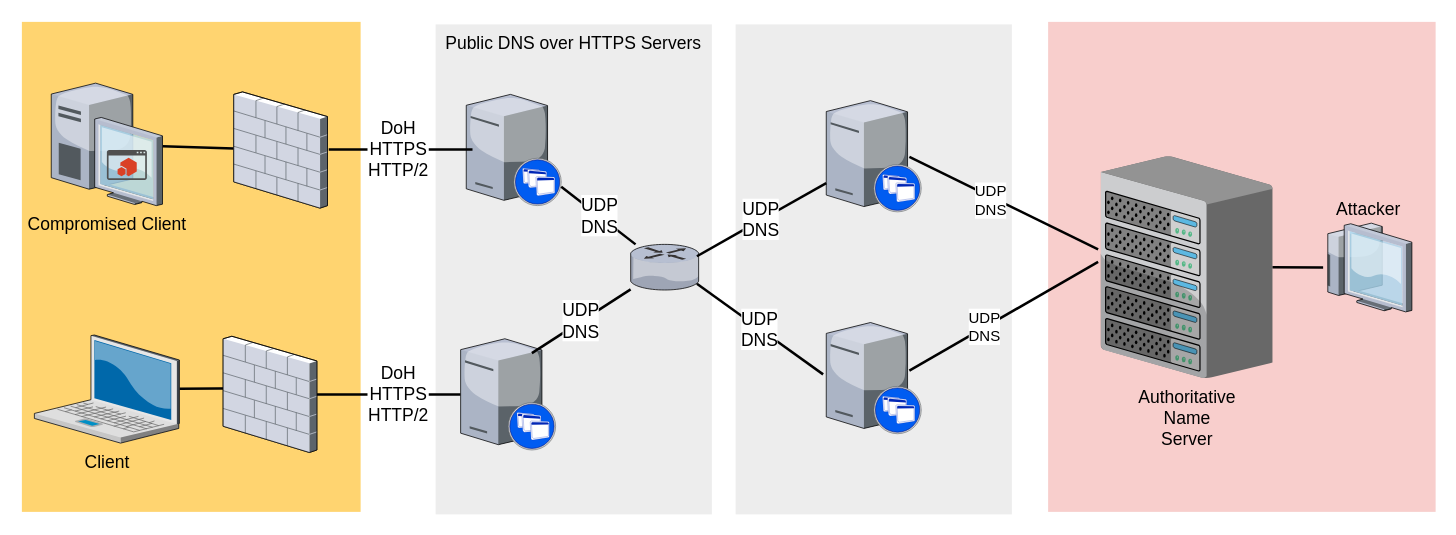
Image size: 1456x535. Some labels were removed from this diagram. Here are the shapes that lost their labels. From the top down, the box of each, then its label:
(21, 21, 360, 511): Enterprise Networks
(735, 24, 1011, 514): Intermediate DNS Servers
(1048, 21, 1435, 511): C2 Server
